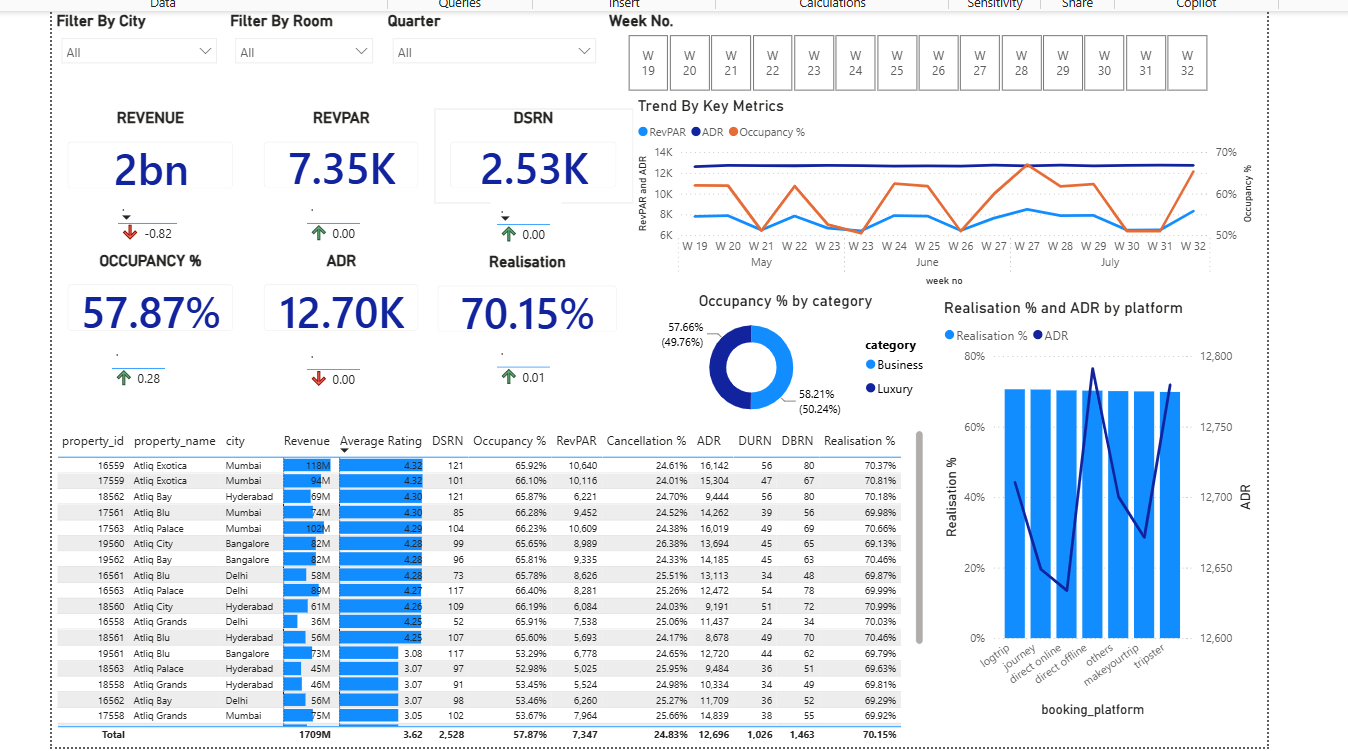

What the dashboard file says about the page in this screenshot:
{"tool":"powerbi","page":{"name":"Page 1","canvas":[1320,800],"ordinal":0},"visuals":[{"type":"tableEx","fields":{"Values":["dim_hotels.property_id","dim_hotels.property_name","dim_hotels.city","key_measures.Revenue","key_measures.Average Rating","key_measures.DSRN","key_measures.Occupancy %","key_measures.RevPAR","key_measures.Cancellation %","key_measures.ADR","key_measures.DURN","key_measures.DBRN"]},"box":[0,451.4,952.4,348.1],"z":0},{"type":"slicer","title":"Filter By City","fields":{"Values":["dim_hotels.city"]},"box":[0,0,189.4,93.3],"z":1000},{"type":"slicer","title":"Filter By Room","fields":{"Values":["dim_rooms.Column2"]},"box":[189.4,0,170.2,93.3],"z":2000},{"type":"slicer","title":"Quarter","fields":{"Values":["dim_date.mmm yy.Variation.Date Hierarchy.Year","dim_date.mmm yy.Variation.Date Hierarchy.Quarter","dim_date.mmm yy.Variation.Date Hierarchy.Month","dim_date.mmm yy.Variation.Date Hierarchy.Day"]},"box":[359.5,0,241.5,93.3],"z":3000},{"type":"slicer","title":"Week No.","fields":{"Values":["dim_date.week no"]},"box":[601,0,679.2,93.3],"z":4000},{"type":"cardVisual","title":"REVENUE","fields":{"Data":["key_measures.Revenue"]},"box":[0,105.7,214.1,104.3],"z":5000},{"type":"tableEx","fields":{"Values":["key_measures.Revenue WoW change %"]},"box":[65.9,197.6,87.8,63.1],"z":6000},{"type":"donutChart","fields":{"Category":["dim_hotels.category"],"Y":["key_measures.Occupancy %"]},"box":[631.1,304.2,331.1,147.2],"z":7000},{"type":"cardVisual","title":"REVPAR","fields":{"Data":["key_measures.RevPAR"]},"box":[213.7,106.1,202.4,103.3],"z":8000},{"type":"tableEx","fields":{"Values":["key_measures.DSRN WoW change %"]},"box":[270.3,197.6,89.2,63.1],"z":9000},{"type":"cardVisual","title":"DSRN","fields":{"Data":["key_measures.DSRN"]},"box":[416,106.1,215.1,103.3],"z":10000},{"type":"tableEx","fields":{"Values":["key_measures.Realisation WoW change %"]},"box":[476.9,353.8,76.4,63.7],"z":11000},{"type":"tableEx","fields":{"Values":["key_measures.DSRN WoW change %"]},"box":[476.9,198.1,76.4,62.3],"z":12000},{"type":"cardVisual","title":"OCCUPANCY %","fields":{"Data":["key_measures.Occupancy %"]},"box":[0,260.7,214.1,104.3],"z":13000},{"type":"cardVisual","title":"ADR","fields":{"Data":["key_measures.ADR"]},"box":[213.7,260.4,202.4,104.7],"z":14000},{"type":"cardVisual","title":"Realisation","fields":{"Data":["key_measures.Realisation %"]},"box":[401.9,261.8,229.2,104.7],"z":15000},{"type":"lineChart","title":"Trend By Key Metrics","fields":{"Category":["dim_date.mmm yy.Variation.Date Hierarchy.Month","dim_date.week no"],"Y":["key_measures.RevPAR","key_measures.ADR"],"Y2":["key_measures.Occupancy %"]},"box":[631.1,92,679.2,212.3],"z":16000},{"type":"lineStackedColumnComboChart","title":"Realisation % and ADR by platform","fields":{"Category":["fact_bookings.booking_platform"],"Y":["key_measures.Realisation %"],"Y2":["key_measures.ADR"]},"box":[965.1,312.7,345.3,459.9],"z":17000},{"type":"tableEx","fields":{"Values":["key_measures.Revenue WoW change %"]},"box":[65.9,354,82.3,63.1],"z":18000},{"type":"tableEx","fields":{"Values":["key_measures.Occupancy WoW change %"]},"box":[59,354,94.7,63.1],"z":19000},{"type":"tableEx","fields":{"Values":["key_measures.ADR WoW change %"]},"box":[270.3,355.4,89.2,61.7],"z":19001}]}

Visuals, with their boxes on the page's 1320x800 design canvas (x1, y1, x2, y2). These are canvas units, not pixel positions in the 1348x751 screenshot, which may show the page scaled, cropped or inside an application window:
tableEx - dim_hotels.property_id x dim_hotels.property_name: {"x1": 0, "y1": 451, "x2": 952, "y2": 800}
"Filter By City" slicer: {"x1": 0, "y1": 0, "x2": 189, "y2": 93}
"Filter By Room" slicer: {"x1": 189, "y1": 0, "x2": 360, "y2": 93}
"Quarter" slicer: {"x1": 360, "y1": 0, "x2": 601, "y2": 93}
"Week No." slicer: {"x1": 601, "y1": 0, "x2": 1280, "y2": 93}
"REVENUE" cardVisual: {"x1": 0, "y1": 106, "x2": 214, "y2": 210}
tableEx - key_measures.Revenue WoW change %: {"x1": 66, "y1": 198, "x2": 154, "y2": 261}
donutChart - dim_hotels.category x key_measures.Occupancy %: {"x1": 631, "y1": 304, "x2": 962, "y2": 451}
"REVPAR" cardVisual: {"x1": 214, "y1": 106, "x2": 416, "y2": 209}
tableEx - key_measures.DSRN WoW change %: {"x1": 270, "y1": 198, "x2": 360, "y2": 261}
"DSRN" cardVisual: {"x1": 416, "y1": 106, "x2": 631, "y2": 209}
tableEx - key_measures.Realisation WoW change %: {"x1": 477, "y1": 354, "x2": 553, "y2": 418}
tableEx - key_measures.DSRN WoW change %: {"x1": 477, "y1": 198, "x2": 553, "y2": 260}
"OCCUPANCY %" cardVisual: {"x1": 0, "y1": 261, "x2": 214, "y2": 365}
"ADR" cardVisual: {"x1": 214, "y1": 260, "x2": 416, "y2": 365}
"Realisation" cardVisual: {"x1": 402, "y1": 262, "x2": 631, "y2": 366}
"Trend By Key Metrics" lineChart: {"x1": 631, "y1": 92, "x2": 1310, "y2": 304}
"Realisation % and ADR by platform" lineStackedColumnComboChart: {"x1": 965, "y1": 313, "x2": 1310, "y2": 773}
tableEx - key_measures.Revenue WoW change %: {"x1": 66, "y1": 354, "x2": 148, "y2": 417}
tableEx - key_measures.Occupancy WoW change %: {"x1": 59, "y1": 354, "x2": 154, "y2": 417}
tableEx - key_measures.ADR WoW change %: {"x1": 270, "y1": 355, "x2": 360, "y2": 417}
